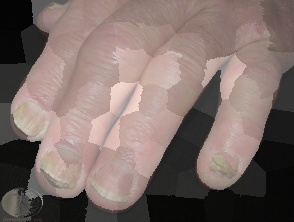Nail_psoriasis: (29, 134, 95, 199), (3, 91, 61, 148), (201, 141, 249, 191), (43, 0, 78, 12)
